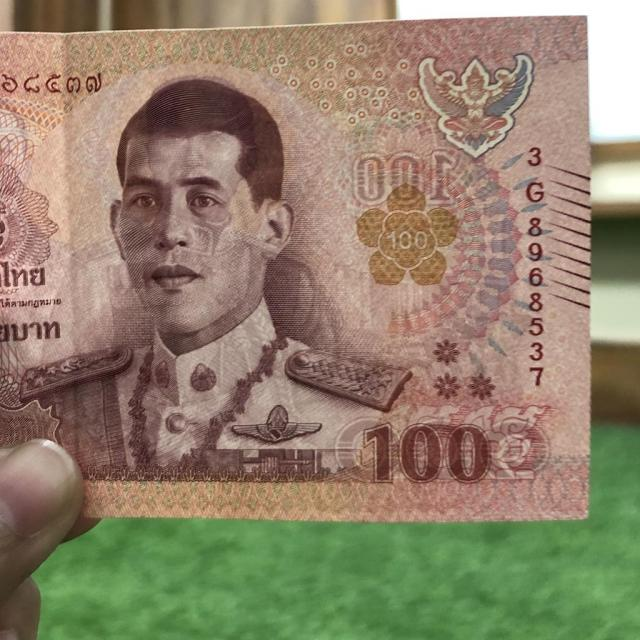THAI100: (0, 15, 592, 524)
